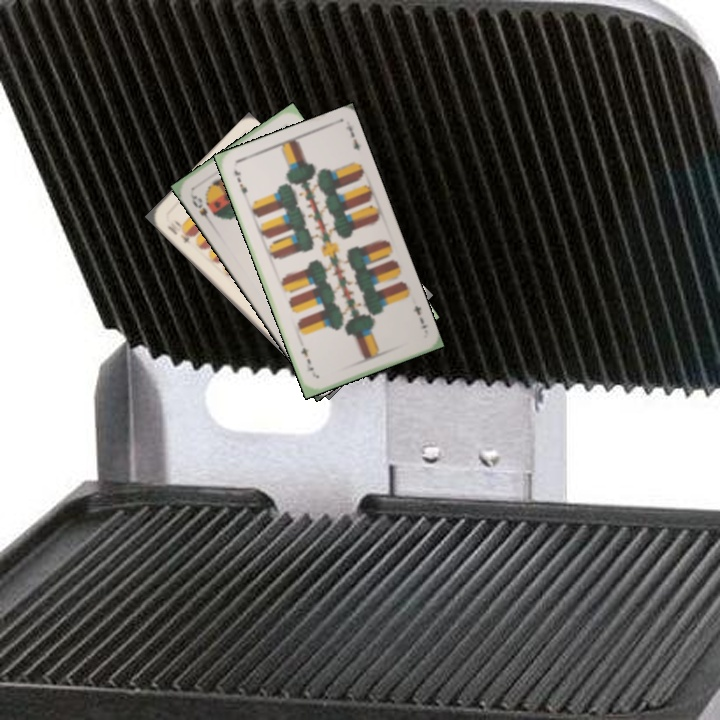E10: (163, 221, 196, 248)
E7: (230, 166, 251, 202), (409, 301, 430, 331)
SO: (186, 190, 214, 226)
